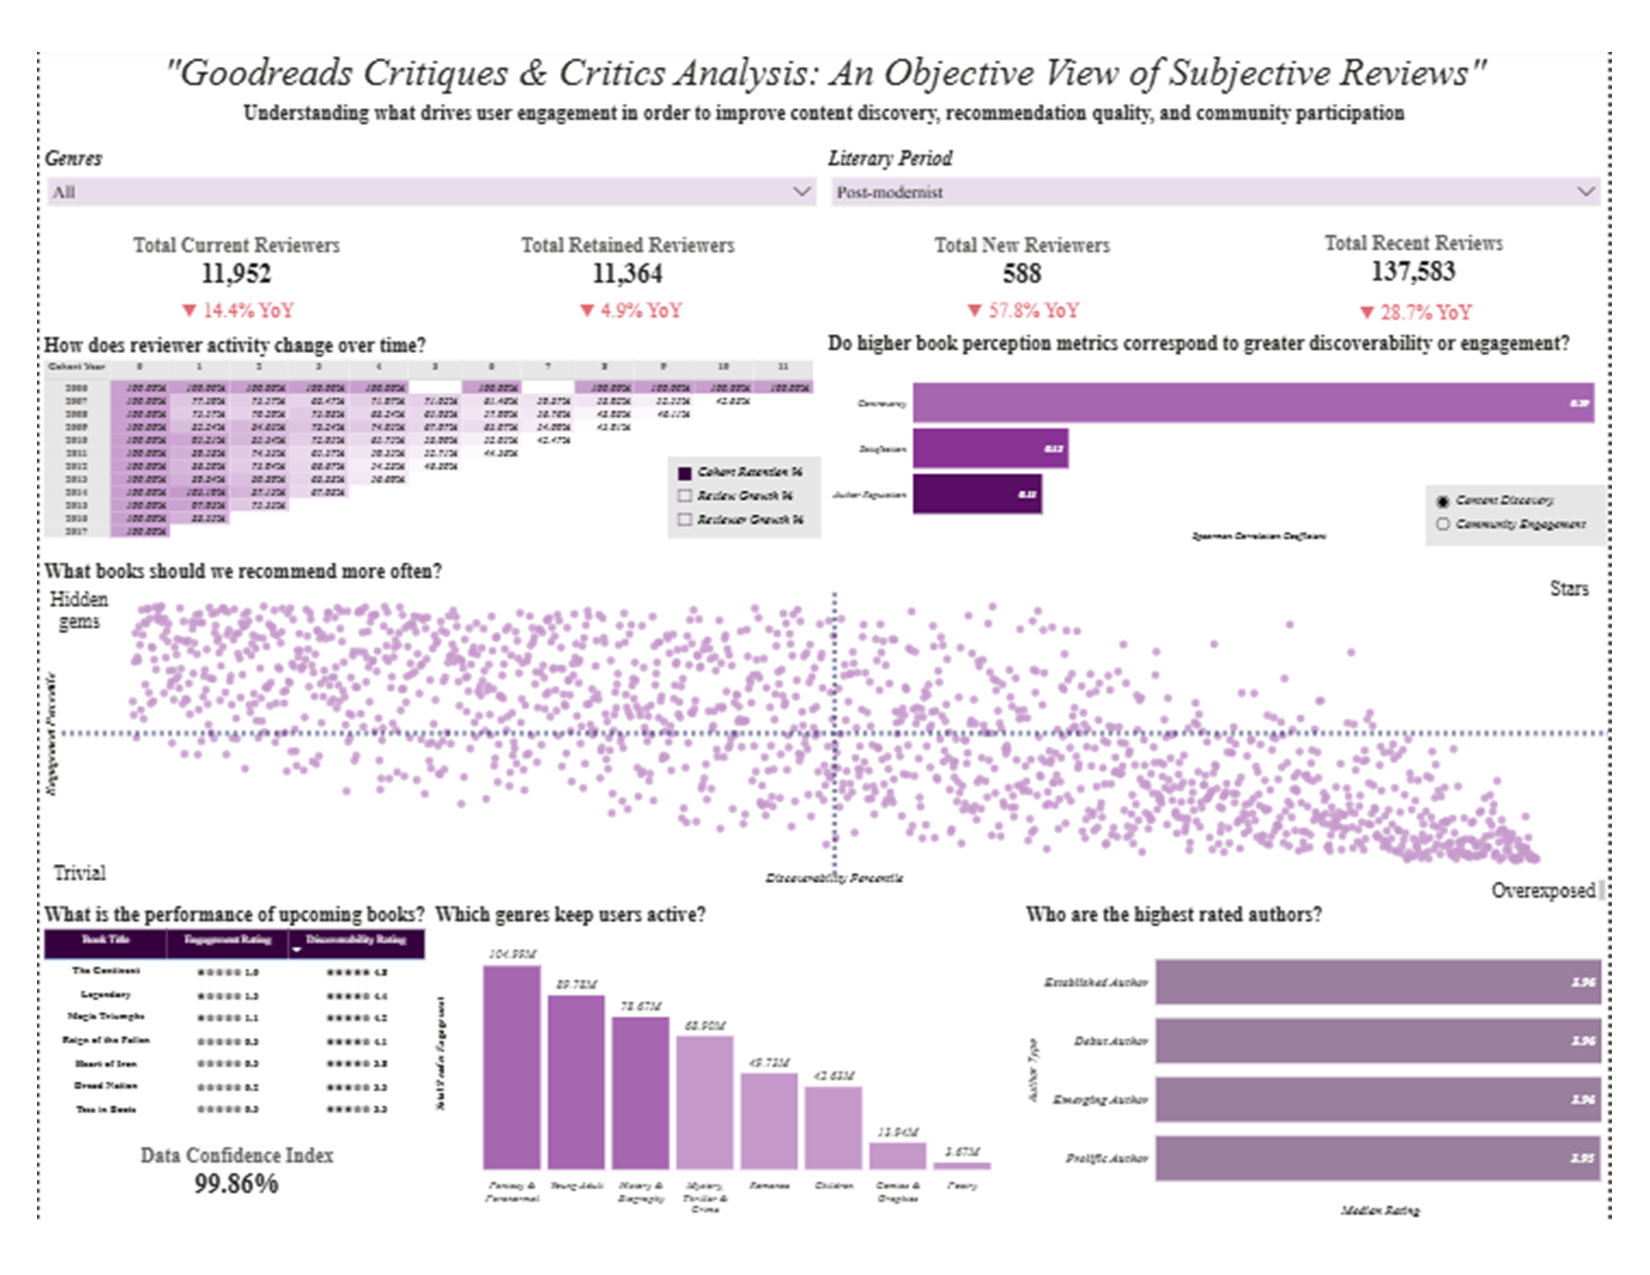

This screenshot's page, from the dashboard's own definition file:
{"tool":"powerbi","page":{"name":"Dashboard","canvas":[1920,1440],"ordinal":0},"visuals":[{"type":"pivotTable","title":"How does reviewer activity change over time?","fields":{"Values":["Metrics Table.Cohort Retention %"],"Rows":["gold fact_customer_cohort.cohort_year"],"Columns":["gold fact_customer_cohort.cohort_age"]},"box":[0,352.9,960,257.6],"z":0},{"type":"textbox","box":[0,0,1920,65],"z":1000},{"type":"textbox","box":[0,64.3,1919,61.9],"z":2000},{"type":"slicer","title":"Genres","fields":{"Values":["gold dim_genres.genres"]},"box":[0,126.2,959.5,76.2],"z":3000},{"type":"slicer","title":"Literary Period","fields":{"Values":["gold dim_period.literary_period"]},"box":[959.5,126.2,959.5,76.2],"z":4000},{"type":"cardVisual","fields":{"Data":["Metrics Table.Total Recent Reviews"]},"box":[1439.4,203,481.8,121.2],"z":5000},{"type":"cardVisual","fields":{"Data":["Metrics Table.Total Current Reviewers"]},"box":[0,203.6,482.1,119.6],"z":6000},{"type":"cardVisual","fields":{"Data":["Metrics Table.Total New Reviewrs"]},"box":[960.7,203.6,480.4,119.6],"z":7000},{"type":"cardVisual","fields":{"Data":["Metrics Table.Total Retained Reviewers"]},"box":[478.6,203.6,482.1,119.6],"z":8000},{"type":"cardVisual","fields":{"Data":["Metrics Table.CGR YoY Display"]},"box":[960.7,296.4,480.4,53.6],"z":9000},{"type":"cardVisual","fields":{"Data":["Metrics Table.Review Growth Rate Display"]},"box":[1442.4,297,478.8,54.5],"z":10000},{"type":"cardVisual","fields":{"Data":["Metrics Table.Reviewer Growth Rate Display"]},"box":[0,296.4,482.1,53.6],"z":11000},{"type":"cardVisual","fields":{"Data":["Metrics Table.Reviewer Retention Rate Display"]},"box":[482.1,296.4,482.1,53.6],"z":12000},{"type":"tableEx","title":"What is the performance of upcoming books?","fields":{"Values":["gold dim_books.title","Metrics Table.Engagement Rating","Metrics Table.Discoverability Rating"]},"box":[0,1050,477.8,272.2],"z":13000},{"type":"clusteredBarChart","title":"Do higher book perception metrics correspond to greater discoverability or engagement?","fields":{"Y":["Metrics Table.Correlation Value with Discoverability"],"Category":["Metrics.Metric"]},"box":[960,349.4,960,261.2],"z":14000},{"type":"slicer","fields":{"Values":["Parameter.Parameter"]},"box":[1696.3,535.8,222.2,75.3],"z":15000},{"type":"slicer","fields":{"Values":["Parameter 2.Parameter"]},"box":[767.1,502.4,188.2,100],"z":16000},{"type":"scatterChart","title":"What books should we recommend more often?","fields":{"Category":["gold dim_books.work_id"],"X":["Metrics Table.Discoverability Percentile"],"Y":["Metrics Table.Engagement Percentile"]},"box":[0,628.6,1922.4,402],"z":17000},{"type":"clusteredColumnChart","title":" Which genres keep users active?","fields":{"Category":["gold dim_genres.genres"],"Y":["Sum(gold fact_normal_reviews_summary.total_reader_engagement)"]},"box":[477.8,1050,722.2,388.9],"z":18000},{"type":"cardVisual","fields":{"Data":["Metrics Table.Data Confidence Index"]},"box":[0,1316.7,483.3,122.2],"z":19000},{"type":"textbox","box":[0,658,97,74],"z":20000},{"type":"textbox","box":[0,994.2,97.1,37.7],"z":21000},{"type":"textbox","box":[1822.4,646.3,97,74.6],"z":22000},{"type":"textbox","box":[1766.7,1013.9,152.8,36.1],"z":23000},{"type":"clusteredBarChart","title":"Who are the highest rated authors?","fields":{"Y":["Metrics Table.Median Rating"],"Category":["gold fact_authors.author_type Hierarchy.Author Type","gold fact_authors.author_type Hierarchy.Author"]},"box":[1200,1050,719.4,388.9],"z":24000}]}

Visuals, with their boxes in screenshot pixels (x1, y1, x2, y2), scaled from the page's 1920x1440 canvas onto the 1650x1275 screenshot:
"How does reviewer activity change over time?" pivotTable: [x1=0, y1=312, x2=825, y2=541]
textbox: [x1=0, y1=0, x2=1649, y2=58]
textbox: [x1=0, y1=57, x2=1649, y2=112]
"Genres" slicer: [x1=0, y1=112, x2=825, y2=179]
"Literary Period" slicer: [x1=825, y1=112, x2=1649, y2=179]
cardVisual - Metrics Table.Total Recent Reviews: [x1=1237, y1=180, x2=1649, y2=287]
cardVisual - Metrics Table.Total Current Reviewers: [x1=0, y1=180, x2=414, y2=286]
cardVisual - Metrics Table.Total New Reviewrs: [x1=826, y1=180, x2=1238, y2=286]
cardVisual - Metrics Table.Total Retained Reviewers: [x1=411, y1=180, x2=826, y2=286]
cardVisual - Metrics Table.CGR YoY Display: [x1=826, y1=262, x2=1238, y2=310]
cardVisual - Metrics Table.Review Growth Rate Display: [x1=1240, y1=263, x2=1649, y2=311]
cardVisual - Metrics Table.Reviewer Growth Rate Display: [x1=0, y1=262, x2=414, y2=310]
cardVisual - Metrics Table.Reviewer Retention Rate Display: [x1=414, y1=262, x2=829, y2=310]
"What is the performance of upcoming books?" tableEx: [x1=0, y1=930, x2=411, y2=1171]
"Do higher book perception metrics correspond to greater discoverability or engagement?" clusteredBarChart: [x1=825, y1=309, x2=1649, y2=541]
slicer - Parameter.Parameter: [x1=1458, y1=474, x2=1649, y2=541]
slicer - Parameter 2.Parameter: [x1=659, y1=445, x2=821, y2=533]
"What books should we recommend more often?" scatterChart: [x1=0, y1=557, x2=1649, y2=913]
" Which genres keep users active?" clusteredColumnChart: [x1=411, y1=930, x2=1031, y2=1274]
cardVisual - Metrics Table.Data Confidence Index: [x1=0, y1=1166, x2=415, y2=1274]
textbox: [x1=0, y1=583, x2=83, y2=648]
textbox: [x1=0, y1=880, x2=83, y2=914]
textbox: [x1=1566, y1=572, x2=1649, y2=638]
textbox: [x1=1518, y1=898, x2=1649, y2=930]
"Who are the highest rated authors?" clusteredBarChart: [x1=1031, y1=930, x2=1649, y2=1274]
